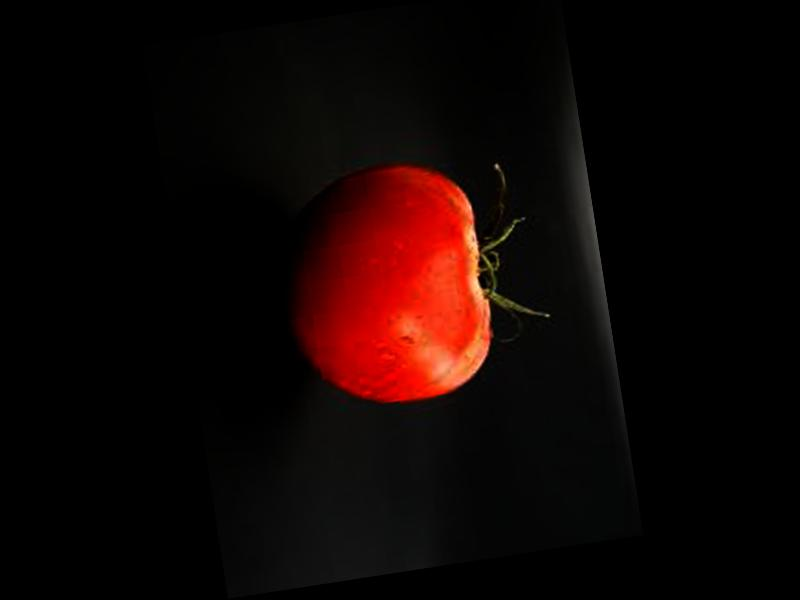Tomato: (268, 154, 502, 420)
